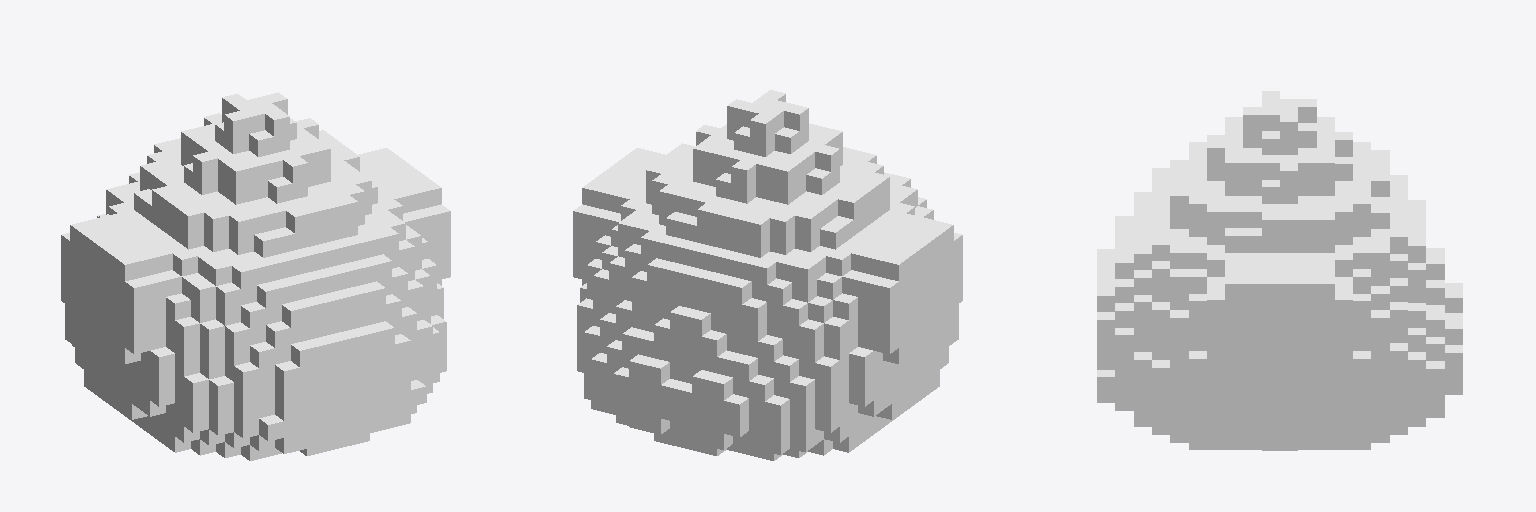
Rendered from Garlic_Body.obj.
The picture shows the model from 3 angles: view 1: azimuth 30°, elevation 25°; view 2: azimuth 150°, elevation 25°; view 3: azimuth 270°, elevation 25°; orthographic projection.
Visible parts, largest first — view 1: object 1; view 2: object 1; view 3: object 1.
Boxes of the visible parts, x1=… form: object 1: x1=61, y1=92, x2=450, y2=460; object 1: x1=573, y1=90, x2=962, y2=460; object 1: x1=1097, y1=91, x2=1462, y2=450.
Size of the model in its own units: 2 by 1.8 by 2.